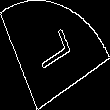L_SW: (32, 30, 78, 80)
